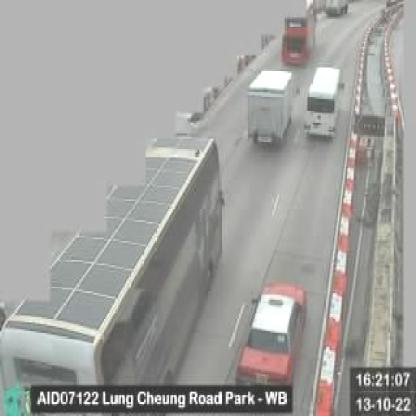Bus: (0, 132, 226, 388), (281, 0, 316, 70)
Car: (232, 278, 306, 392), (305, 66, 342, 138)
Truck: (245, 70, 294, 150)
